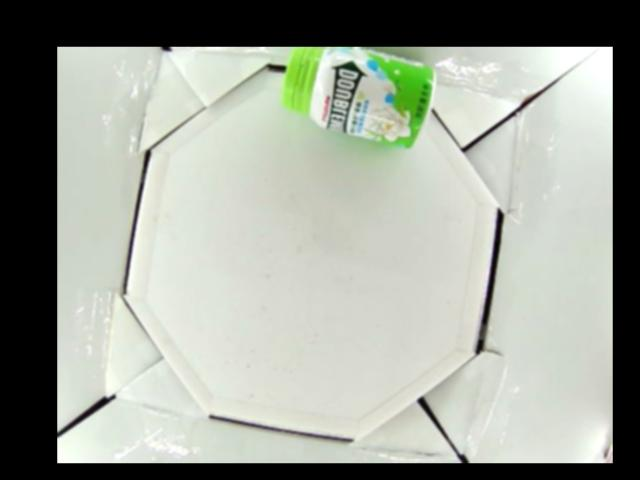Bottle: (280, 47, 437, 150)
